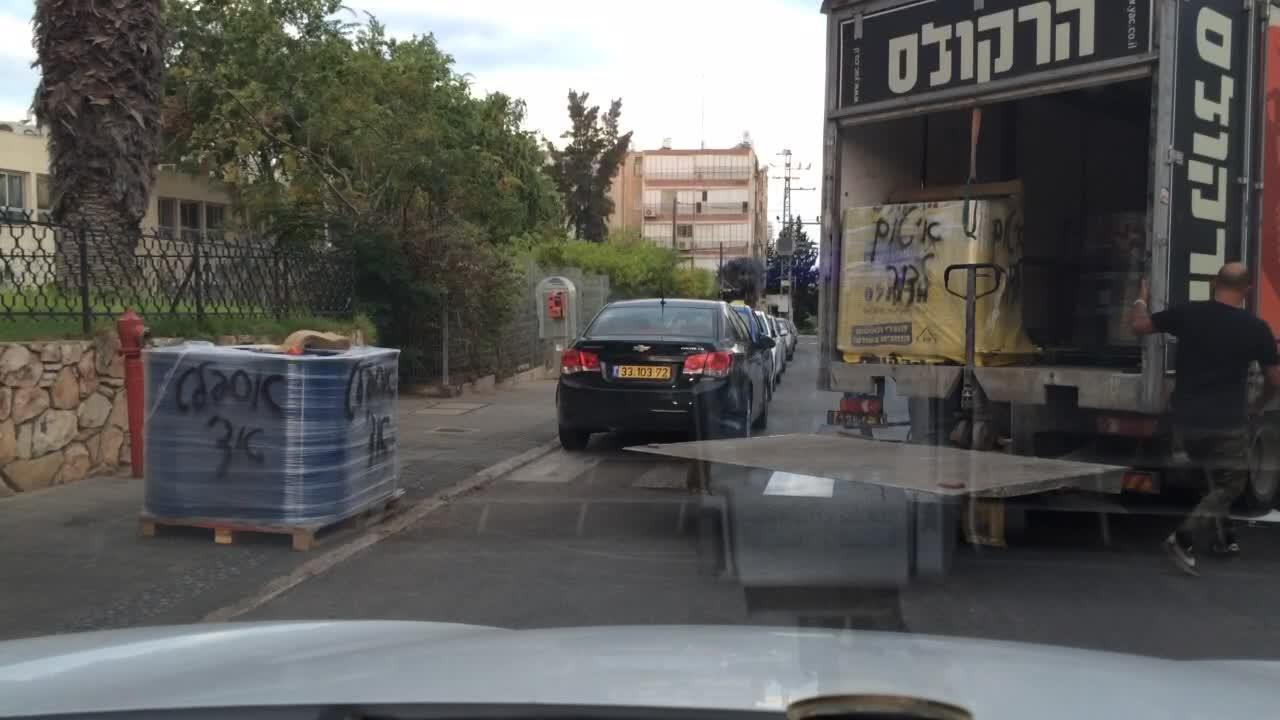chevrolet: (632, 337, 657, 357)
